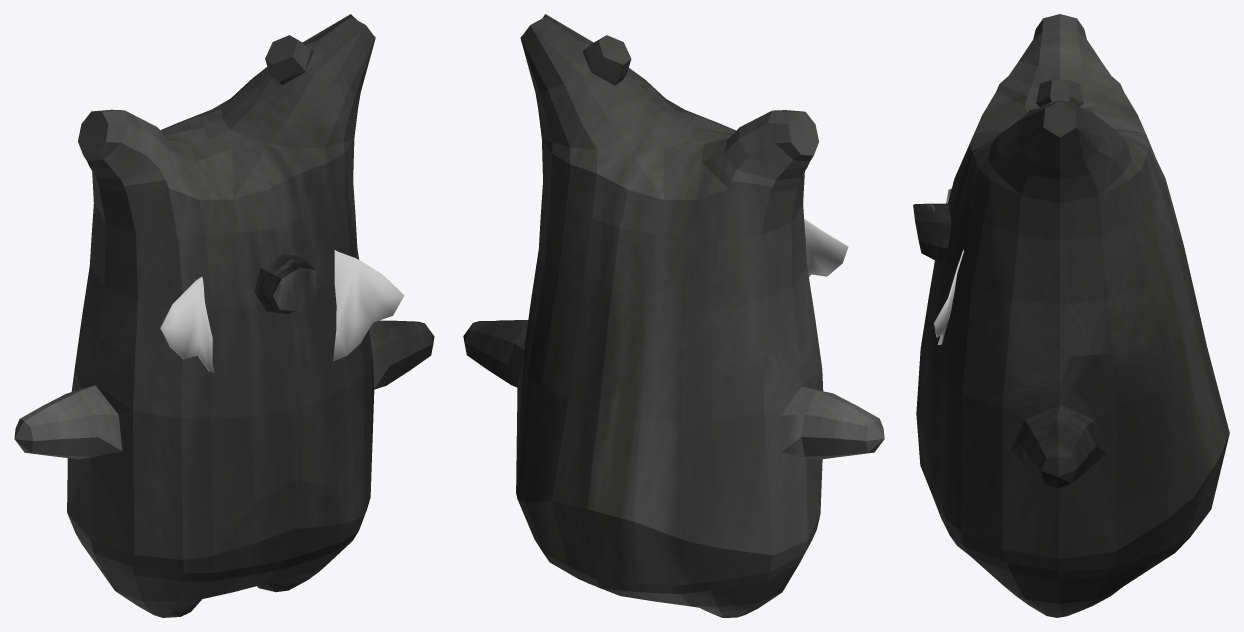
The model's file is frame_0021.obj.
3 renders of one model, left to right at view 1: azimuth 30°, elevation 25°; view 2: azimuth 150°, elevation 25°; view 3: azimuth 270°, elevation 25°, orthographic.
Visible parts, largest first — view 1: korok, leaf, nose; view 2: korok, leaf; view 3: korok, nose, leaf.
Part boxes in pixels (box(x1,y1,x2,y2)): korok: box(14, 14, 434, 617); leaf: box(160, 250, 404, 372); nose: box(254, 254, 320, 313); korok: box(463, 14, 884, 617); leaf: box(804, 219, 848, 276); korok: box(916, 14, 1229, 617); nose: box(913, 203, 951, 263); leaf: box(933, 188, 963, 344).
Bounding box in the file's own units: 1.8 × 2.27 × 1.19.
